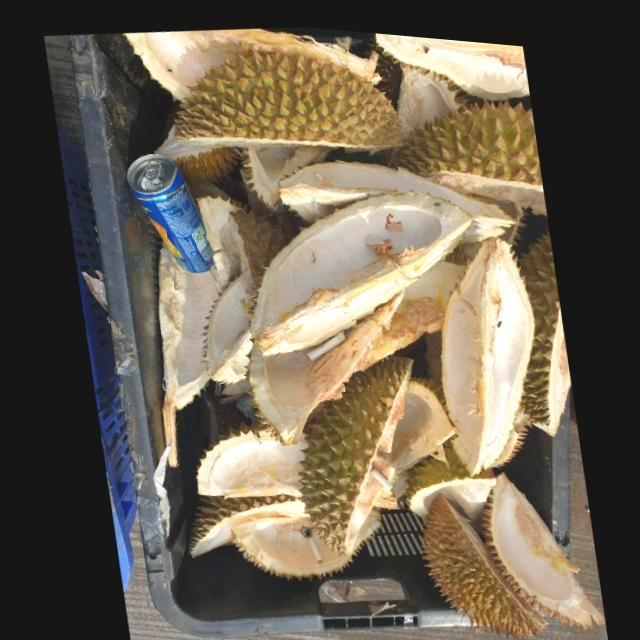aluminum: (125, 150, 213, 269)
